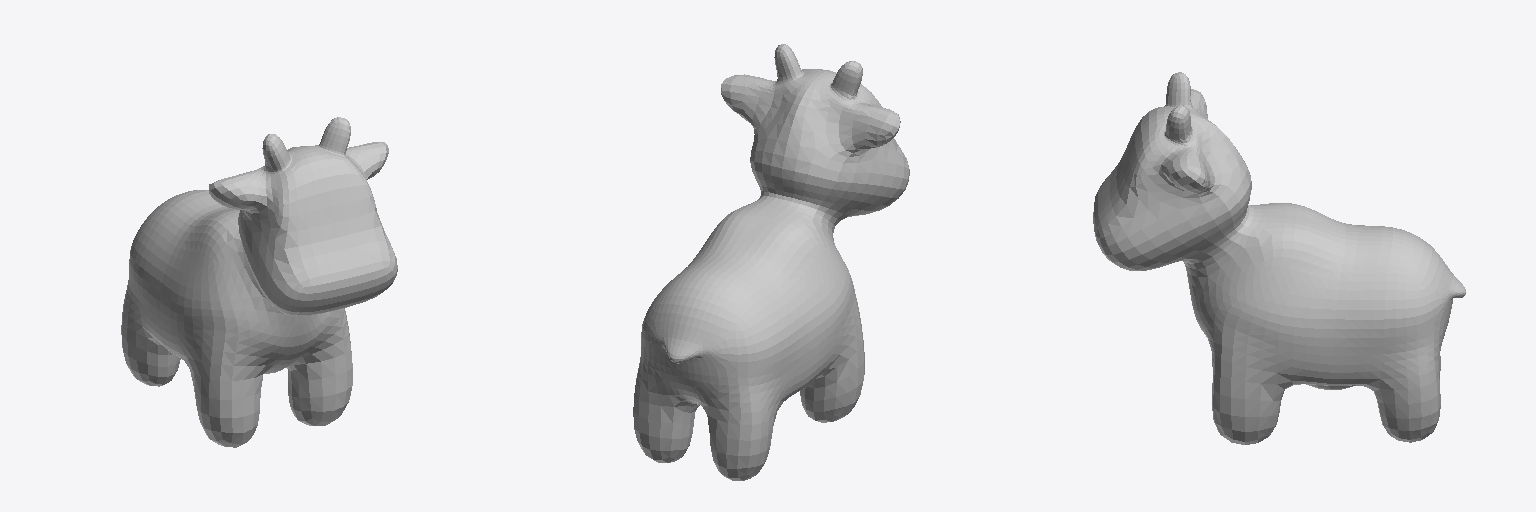
File: spot.obj
3 views of the same model, side by side, from view 1: azimuth 30°, elevation 25°; view 2: azimuth 150°, elevation 25°; view 3: azimuth 270°, elevation 25° (orthographic).
Parts seen in each view (by area): view 1: spot.001; view 2: spot.001; view 3: spot.001.
Boxes of the visible parts, x1=… form: spot.001: x1=121, y1=117, x2=397, y2=447; spot.001: x1=633, y1=44, x2=909, y2=480; spot.001: x1=1093, y1=72, x2=1465, y2=444.
Bounding box in the file's own units: 12.67 × 22.71 × 23.07.